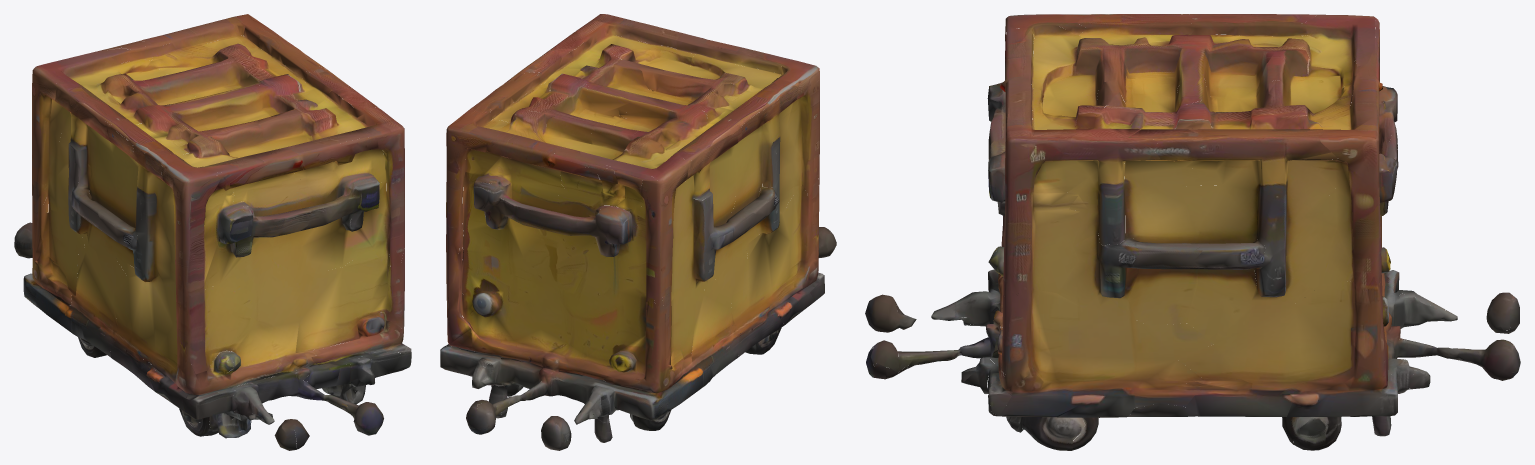
The model's file is env_freight_crate_01.glb.
3 views of the same model, side by side, from view 1: azimuth 30°, elevation 25°; view 2: azimuth 150°, elevation 25°; view 3: azimuth 270°, elevation 25° (orthographic). The views are drawn at different scales.
Parts seen in each view (by area): view 1: tripo_node_2aa4f976-b776-4388-8db4-f2c85c3a9023; view 2: tripo_node_2aa4f976-b776-4388-8db4-f2c85c3a9023; view 3: tripo_node_2aa4f976-b776-4388-8db4-f2c85c3a9023.
Part boxes in pixels (left/top/right/bottom): tripo_node_2aa4f976-b776-4388-8db4-f2c85c3a9023: left=14, top=14, right=411, bottom=450; tripo_node_2aa4f976-b776-4388-8db4-f2c85c3a9023: left=440, top=14, right=836, bottom=450; tripo_node_2aa4f976-b776-4388-8db4-f2c85c3a9023: left=865, top=14, right=1520, bottom=450.
Bounding box in the file's own units: 0.507 × 0.5593 × 1.
1 material, 1 textured.
